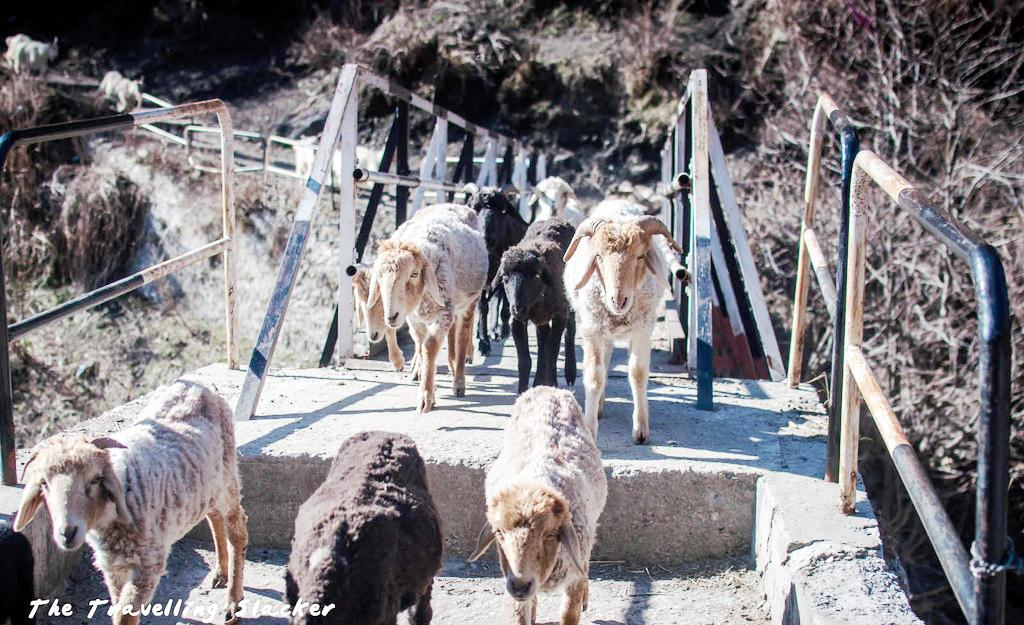Sheep: (23, 356, 269, 625), (481, 383, 643, 625), (556, 183, 687, 440), (372, 174, 498, 410), (286, 430, 438, 625), (496, 218, 576, 386), (464, 179, 522, 364)
